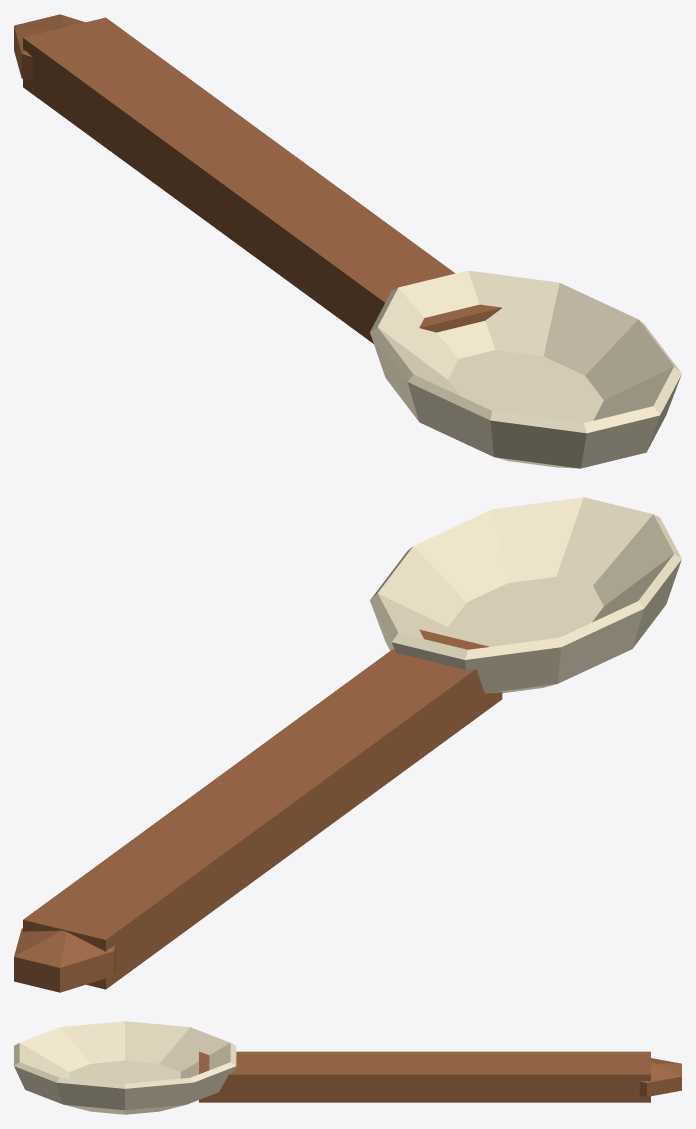
Rendered from spoon.glb.
3 views of the same model, one above another, from view 1: azimuth 30°, elevation 25°; view 2: azimuth 150°, elevation 25°; view 3: azimuth 270°, elevation 25° (orthographic). The views are drawn at different scales.
Visible parts, largest first — view 1: spoon; view 2: spoon; view 3: spoon.
Boxes of the visible parts, left/top/right/bottom form: spoon: left=14, top=14, right=681, bottom=468; spoon: left=14, top=497, right=681, bottom=992; spoon: left=14, top=1021, right=681, bottom=1114.
Size of the model in its own units: 0.04 by 0.013 by 0.1715.
